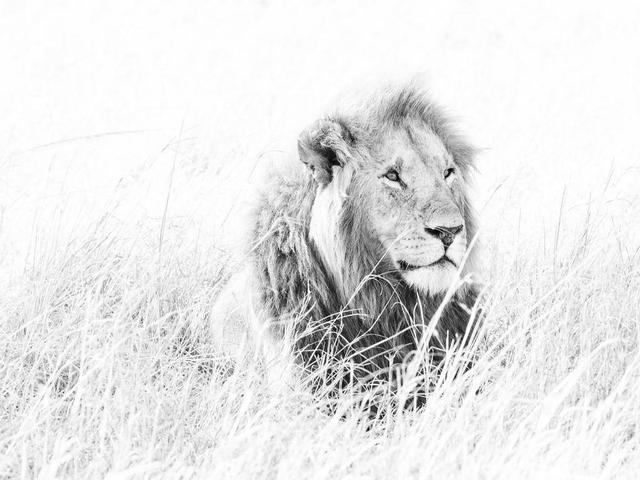lion: (222, 72, 495, 391)
